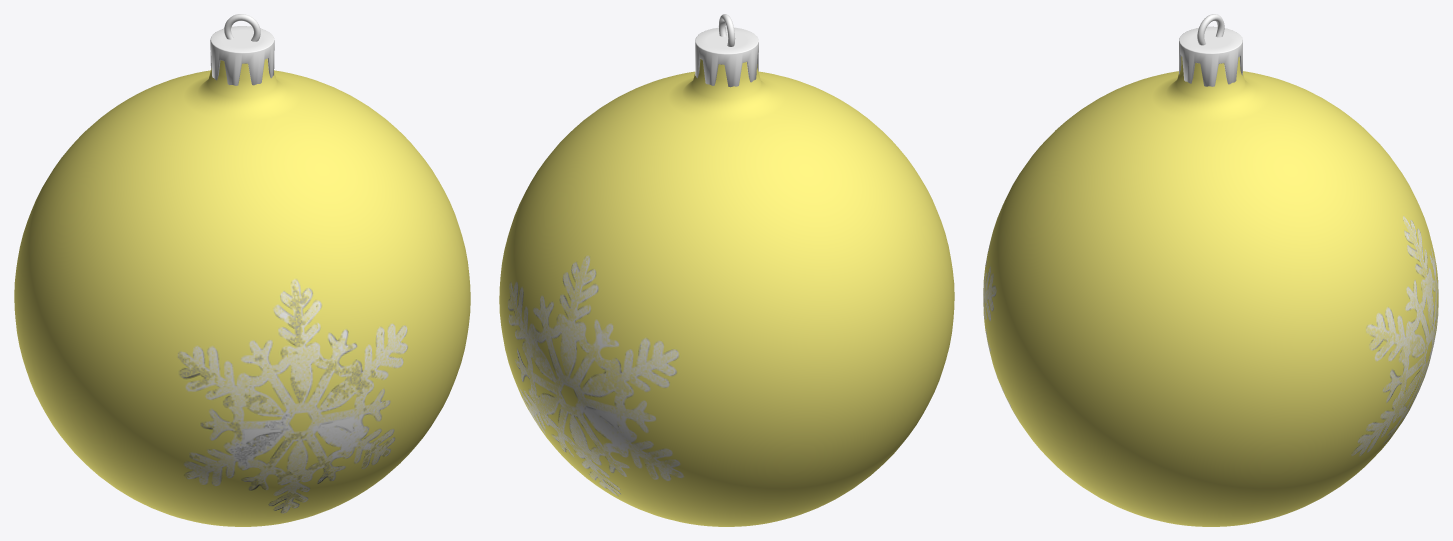
The model's file is gold_ball2.glb.
The picture shows the model from 3 angles, left to right: view 1: azimuth 30°, elevation 25°; view 2: azimuth 150°, elevation 25°; view 3: azimuth 270°, elevation 25°; orthographic projection.
Parts seen in each view (by area): view 1: Object_5; view 2: Object_5; view 3: Object_5.
Part boxes in pixels (x1,y1,x2,y2): Object_5: (14,14,470,526); Object_5: (499,14,954,526); Object_5: (983,14,1438,526).
Bounding box in the file's own units: 0.0697 × 0.0829 × 0.0697.
2 materials, 1 textured.
